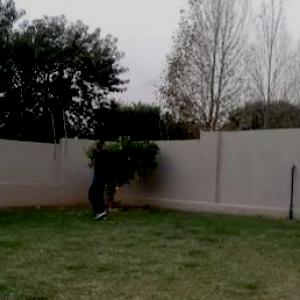follow: (87, 135, 111, 229)
